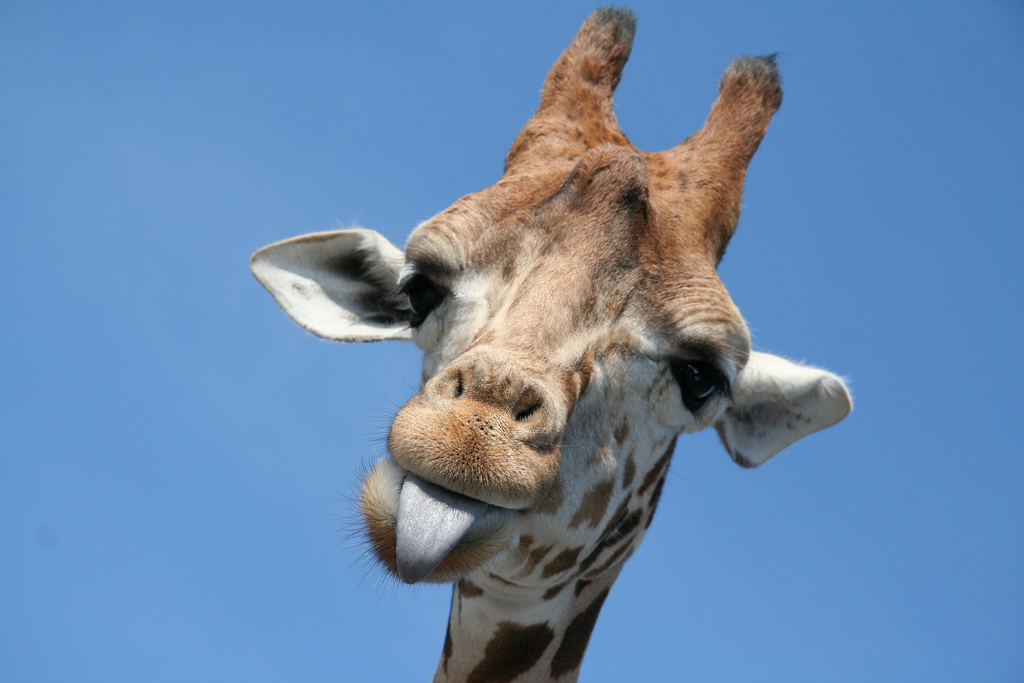giraffe: (308, 23, 859, 638)
